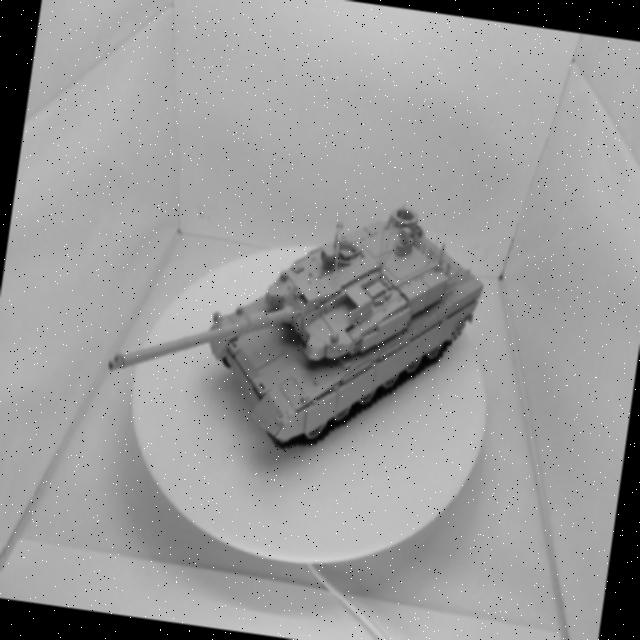korea tank: (97, 144, 504, 502)
